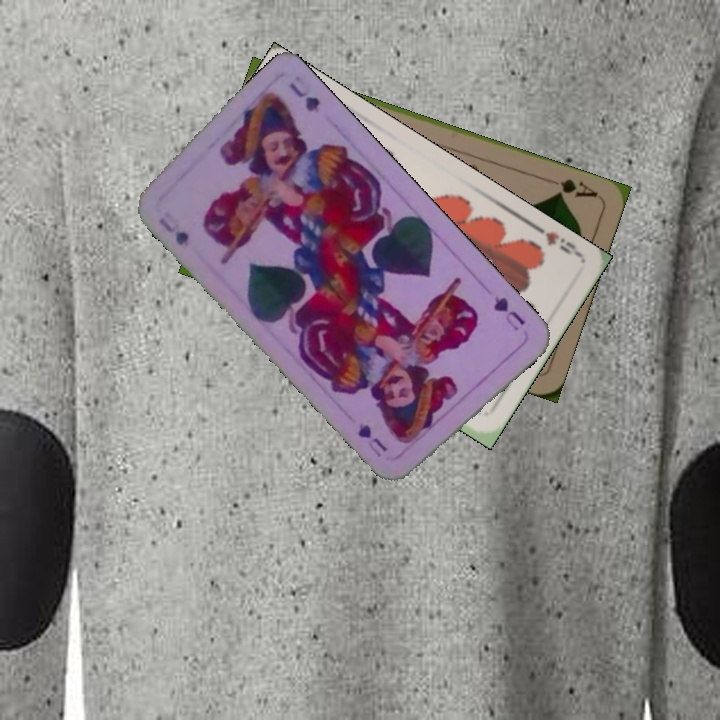GA: (542, 174, 601, 201)
GU: (489, 292, 528, 334), (154, 207, 192, 249)
H9: (530, 220, 583, 259)
